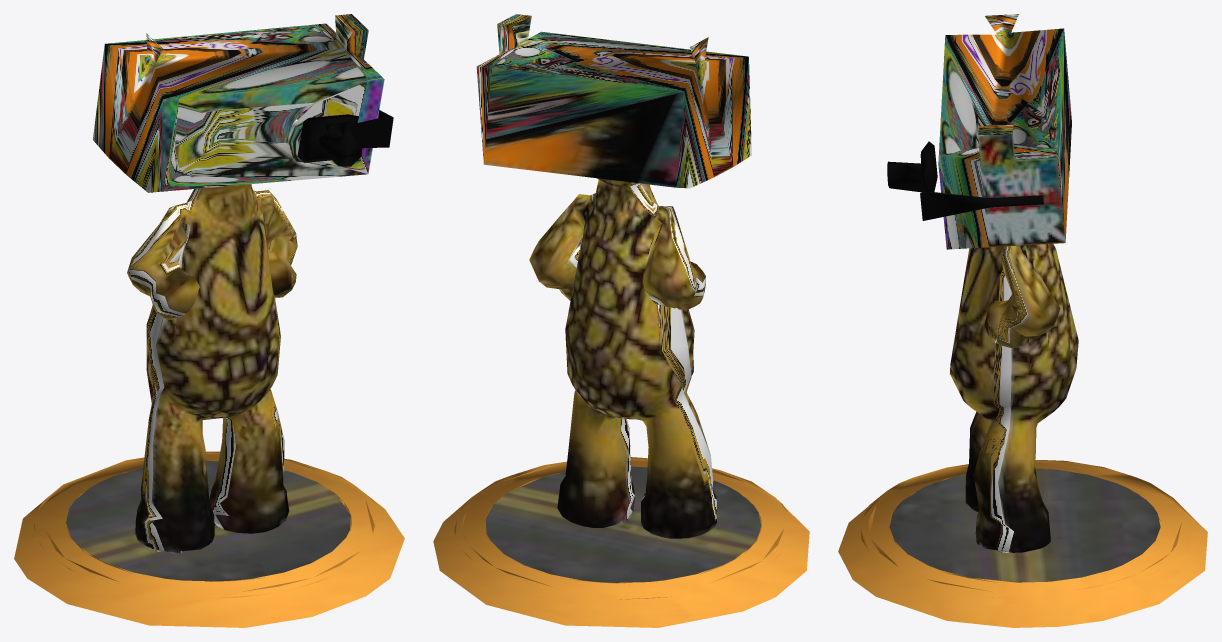
3 renders of one model, left to right at view 1: azimuth 30°, elevation 25°; view 2: azimuth 150°, elevation 25°; view 3: azimuth 270°, elevation 25°, orthographic. The views are drawn at different scales.
Size of the model in its own units: 1.44 by 2.15 by 1.43.
5 materials, 4 textured.
